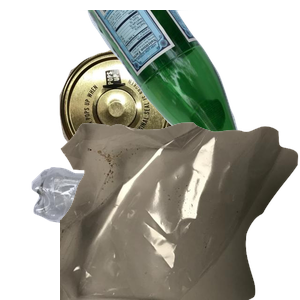glass: (75, 10, 300, 190)
metal: (57, 47, 227, 211)
plastic: (29, 165, 227, 300)
trash: (60, 120, 300, 300)
